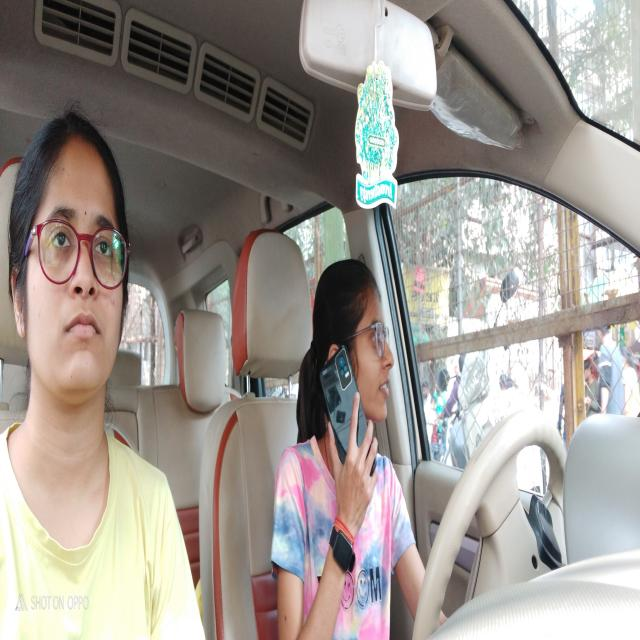mobile: (317, 349, 385, 491)
person: (10, 102, 134, 441), (301, 243, 415, 517)
